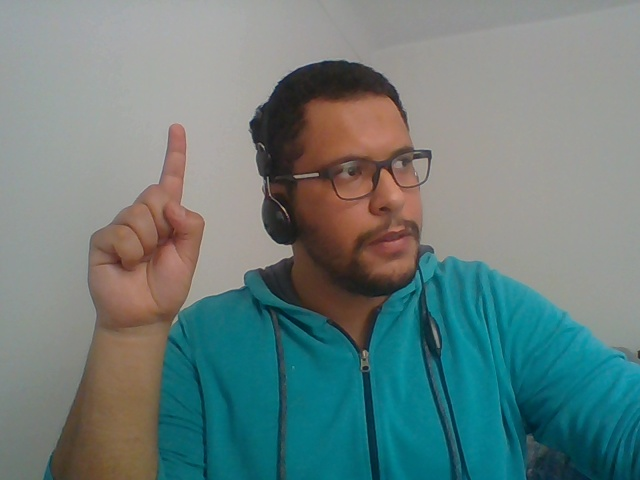handup: (64, 114, 216, 441)
